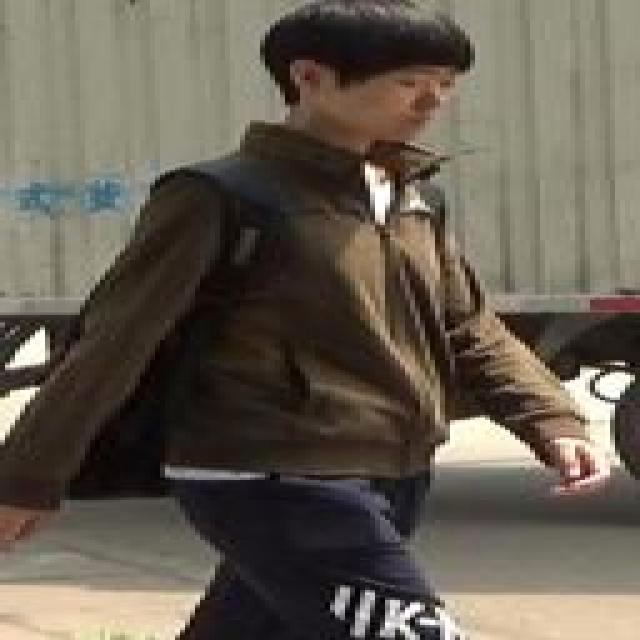adult: (8, 0, 606, 640)
